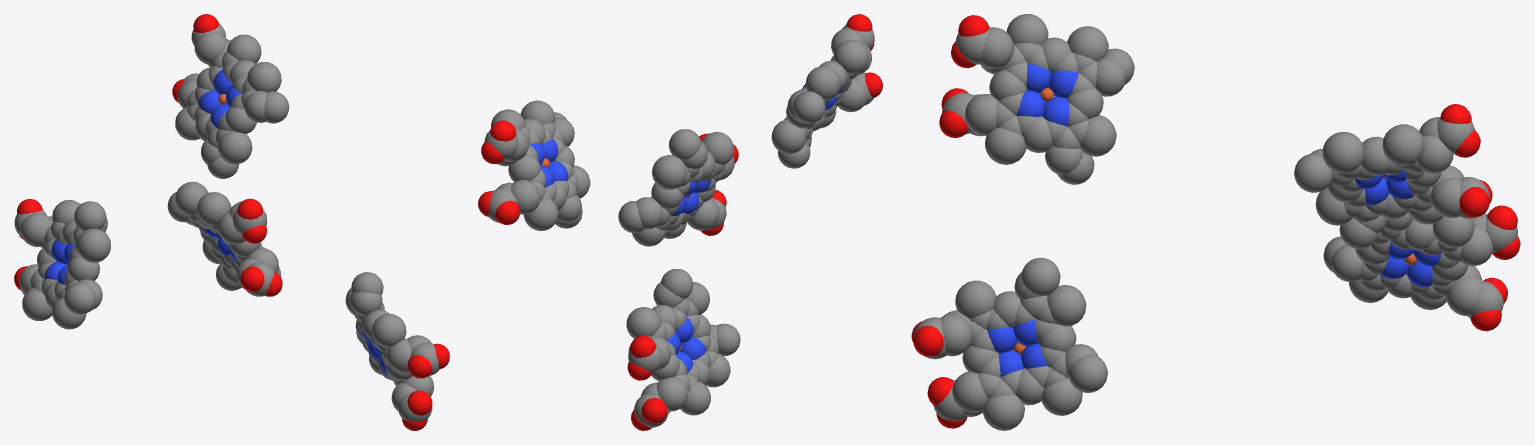
The model's file is hemes_2hhb.dae.
3 views of the same model, side by side, from view 1: azimuth 30°, elevation 25°; view 2: azimuth 150°, elevation 25°; view 3: azimuth 270°, elevation 25° (orthographic). The views are drawn at different scales.
Parts seen in each view (by area): view 1: subnode_154, subnode_25, subnode_75, subnode_94, subnode_18, subnode_149, subnode_156, subnode_163, subnode_10, subnode_104, subnode_8, subnode_137 (+21 smaller); view 2: subnode_68, subnode_94, subnode_111, subnode_104, subnode_161, subnode_106, subnode_138, subnode_70, subnode_32, subnode_33, subnode_75, subnode_156 (+27 smaller); view 3: subnode_8, subnode_18, subnode_68, subnode_51, subnode_75, subnode_118, subnode_63, subnode_70, subnode_20, subnode_61, subnode_111, subnode_119 (+39 smaller).
Part boxes in pixels (x1,y1,x2,y2): subnode_154: (77, 228, 110, 262); subnode_25: (218, 131, 252, 164); subnode_75: (372, 313, 406, 347); subnode_94: (197, 192, 231, 226); subnode_18: (247, 62, 281, 92); subnode_149: (64, 282, 95, 314); subnode_156: (74, 201, 106, 231); subnode_163: (20, 212, 49, 246); subnode_10: (194, 32, 227, 64); subnode_104: (175, 181, 208, 215); subnode_8: (227, 34, 261, 63); subnode_137: (22, 288, 52, 320); subnode_68: (652, 155, 686, 189); subnode_94: (834, 39, 868, 74); subnode_111: (771, 119, 806, 154); subnode_104: (806, 66, 840, 100); subnode_161: (626, 307, 661, 338); subnode_106: (793, 91, 825, 123); subnode_138: (656, 377, 688, 411); subnode_70: (669, 129, 701, 160); subnode_32: (523, 200, 558, 230); subnode_33: (511, 180, 540, 214); subnode_75: (701, 131, 734, 164); subnode_156: (661, 269, 693, 298); subnode_8: (1382, 124, 1424, 166); subnode_18: (1322, 132, 1363, 173); subnode_68: (1047, 285, 1086, 326); subnode_51: (982, 395, 1024, 430); subnode_75: (955, 280, 996, 318); subnode_118: (985, 127, 1026, 164); subnode_63: (1068, 354, 1107, 392); subnode_70: (1021, 257, 1060, 295); subnode_20: (1294, 153, 1332, 192); subnode_61: (1041, 379, 1082, 415); subnode_111: (1081, 115, 1116, 156); subnode_119: (965, 94, 997, 135).
Bounding box in the file's own units: 28.57 × 31.46 × 54.13.
